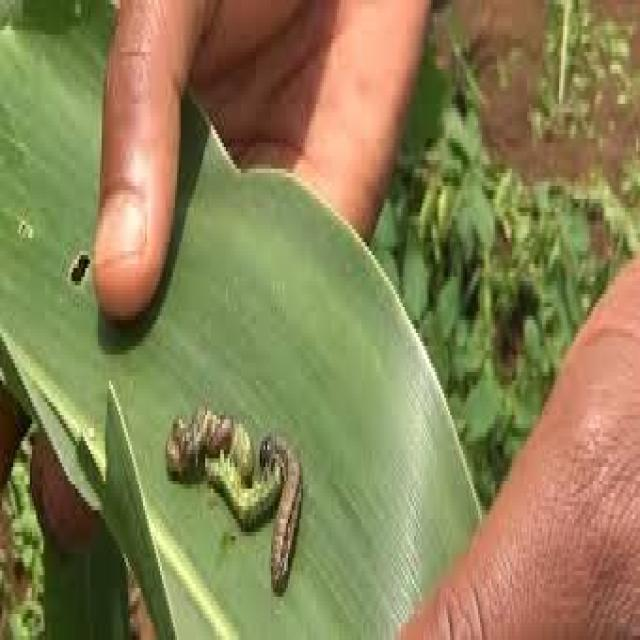Army Worm: (164, 398, 310, 612)
